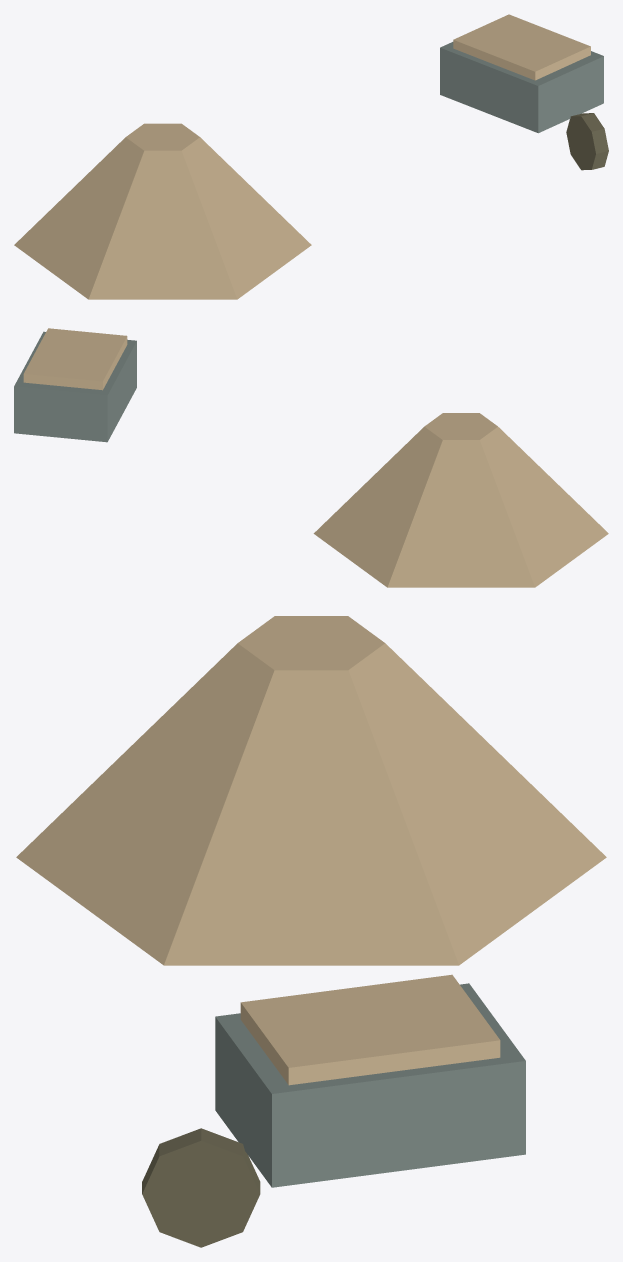
Rendered from SM_ObraHerramientas_v0_10m_LOD1.fbx.
The picture shows the model from 3 angles, top to bottom: view 1: azimuth 30°, elevation 25°; view 2: azimuth 150°, elevation 25°; view 3: azimuth 270°, elevation 25°; orthographic projection. The views are drawn at different scales.
Visible parts, largest first — view 1: SM_obra_curso_v11_LOD1; view 2: SM_obra_curso_v11_LOD1; view 3: SM_obra_curso_v11_LOD1.
Part boxes in pixels (box(x1,y1,x2,y2)): SM_obra_curso_v11_LOD1: box(14, 14, 608, 299); SM_obra_curso_v11_LOD1: box(14, 328, 608, 587); SM_obra_curso_v11_LOD1: box(16, 616, 606, 1247).
Size of the model in its own units: 4.21 by 0.8 by 2.
